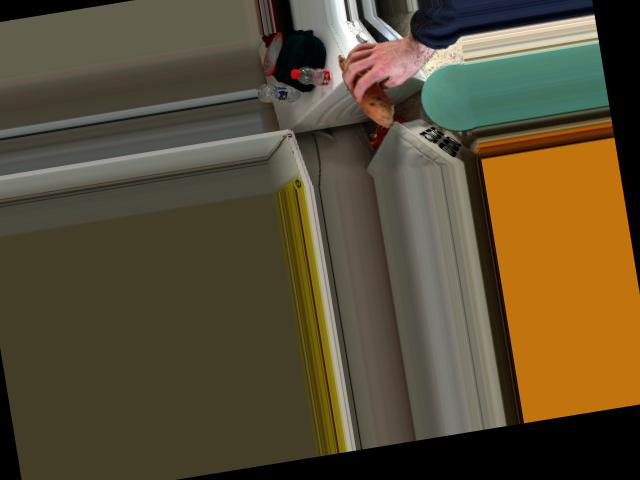sweet_potato: (336, 44, 395, 130)
